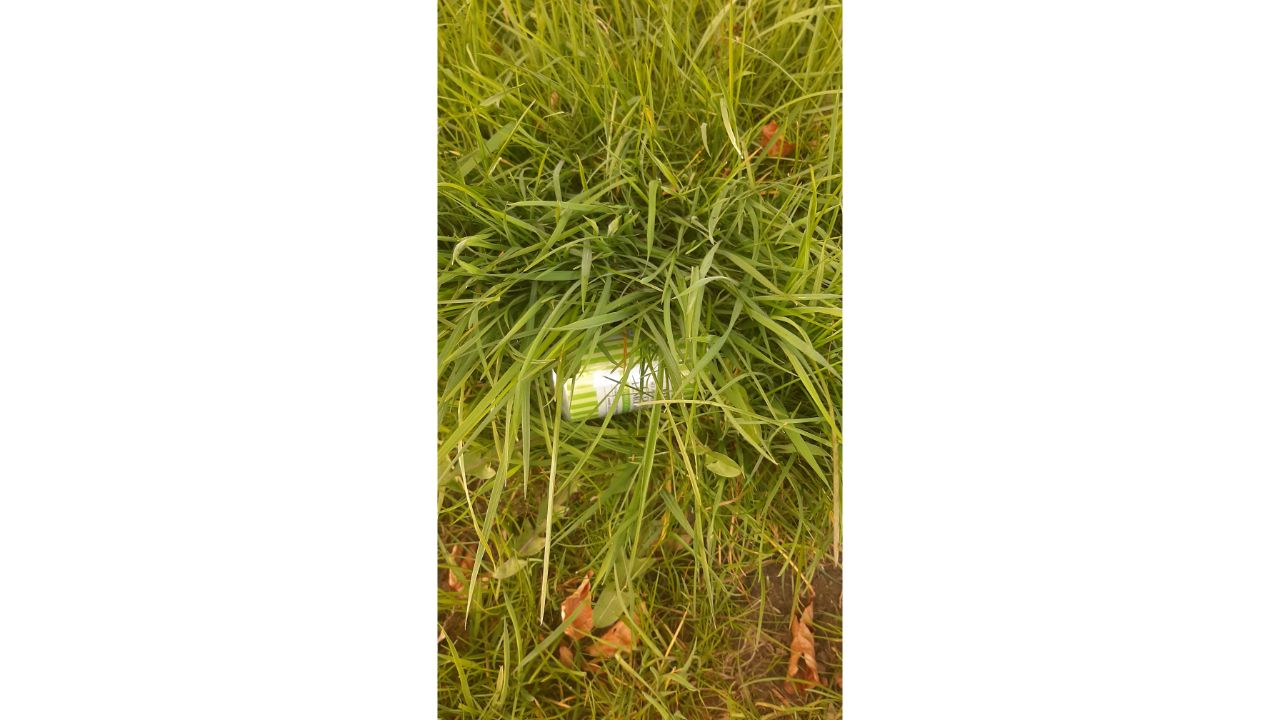Can: (537, 315, 737, 435)
